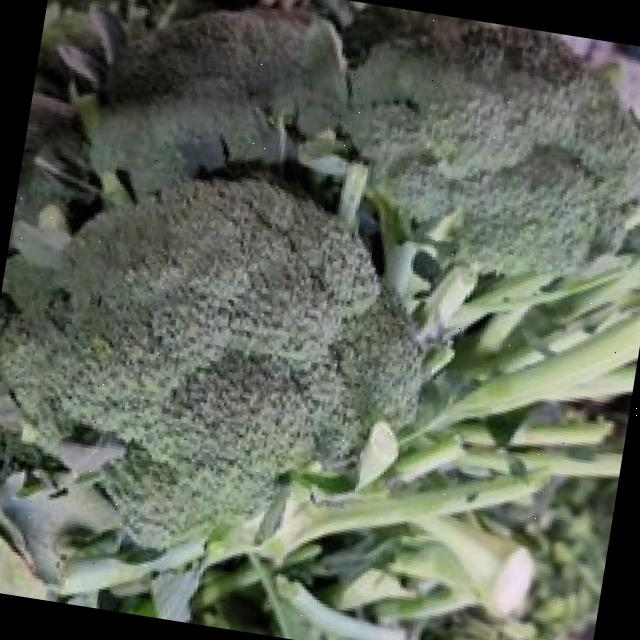Broccoli: (0, 180, 420, 548), (0, 180, 420, 547), (341, 24, 640, 274), (341, 25, 640, 274), (76, 7, 346, 201), (76, 8, 346, 197)
